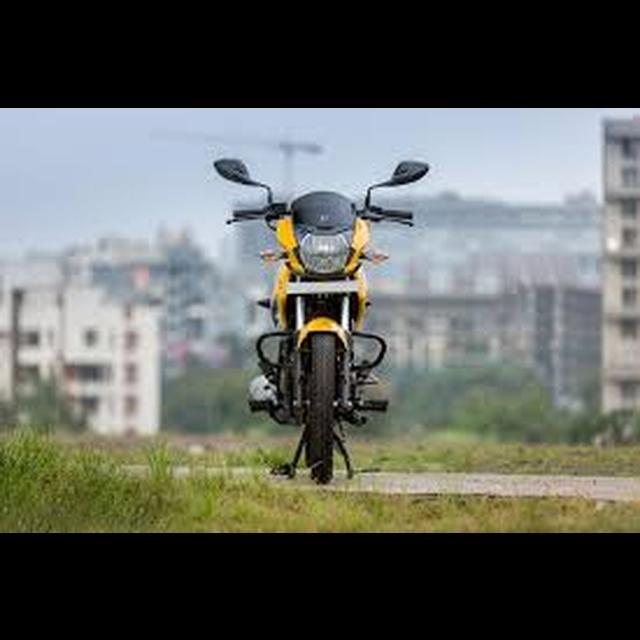motorcycle: (209, 153, 436, 490)
